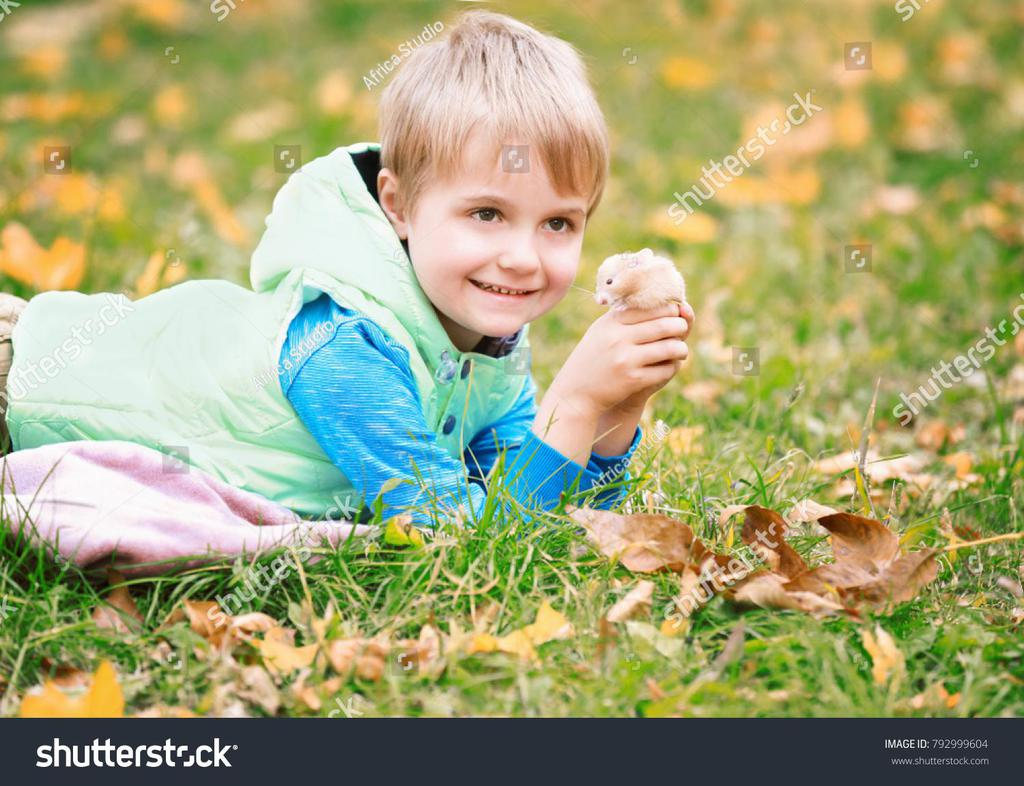child: (4, 1, 693, 588)
